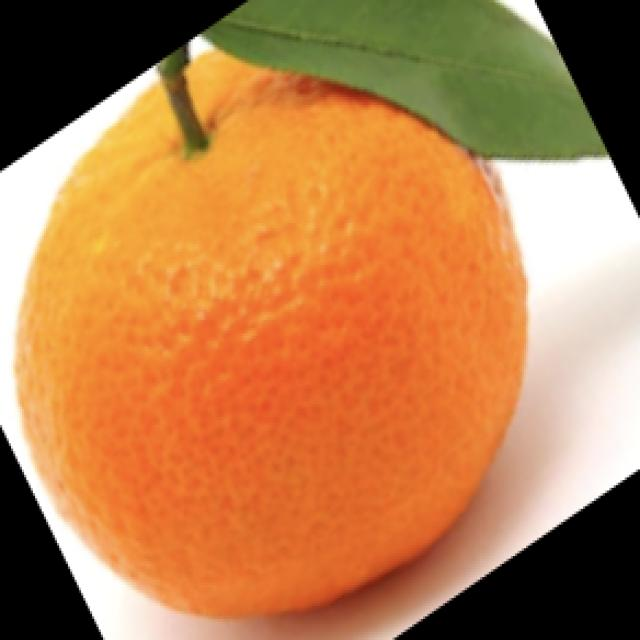matang: (25, 61, 528, 603)
